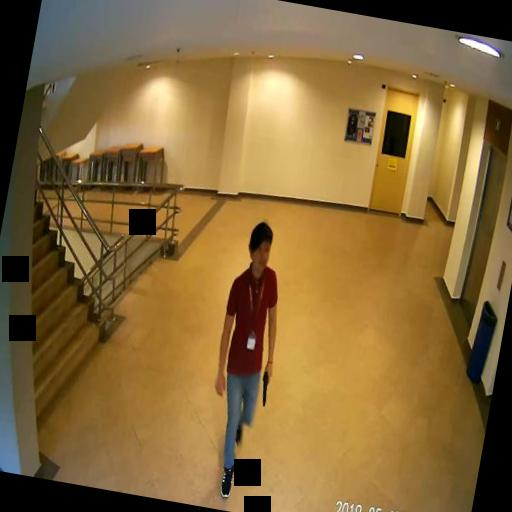Handgun: (256, 365, 271, 406)
